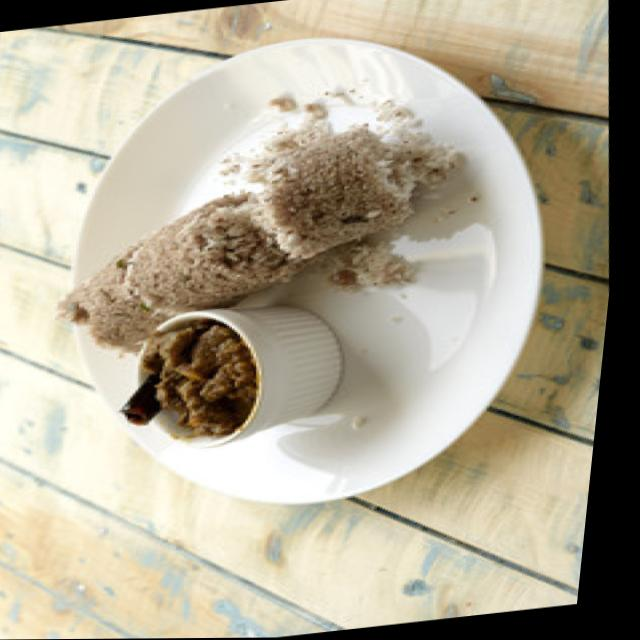CURRY: (141, 319, 254, 438)
PUTTU: (48, 124, 452, 351)
